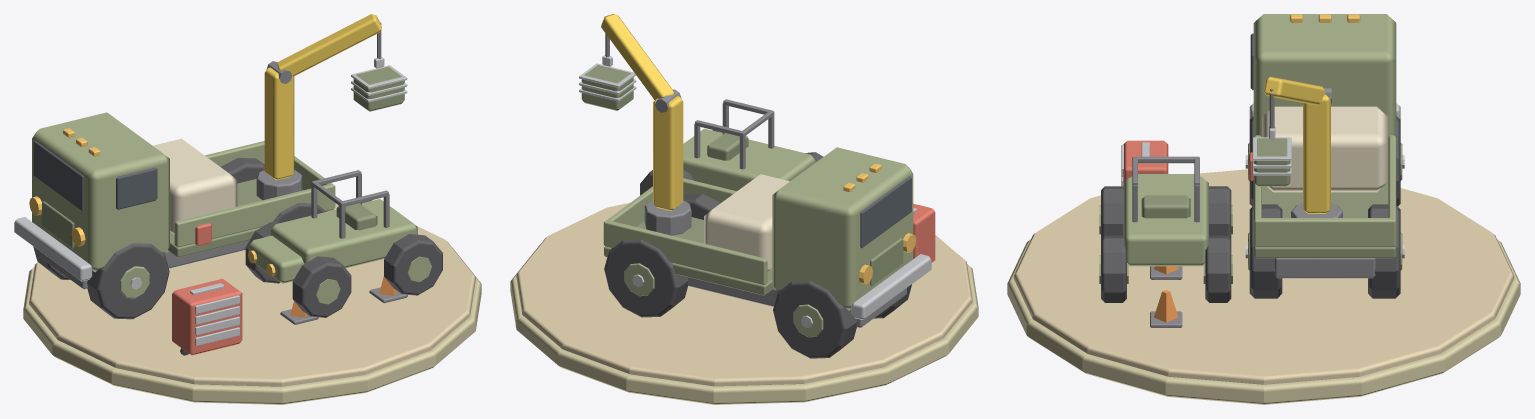
The model's file is mechanic_point.glb.
3 renders of one model, left to right at view 1: azimuth 30°, elevation 25°; view 2: azimuth 150°, elevation 25°; view 3: azimuth 270°, elevation 25°, orthographic. The views are drawn at different scales.
Visible parts, largest first — view 1: MerchantShop; view 2: MerchantShop; view 3: MerchantShop.
Boxes of the visible parts, x1,y1,x2,y2 form: MerchantShop: [14, 14, 481, 404]; MerchantShop: [510, 14, 978, 404]; MerchantShop: [1007, 14, 1520, 404].
Bounding box in the file's own units: 6.3 × 3.9 × 6.3.
